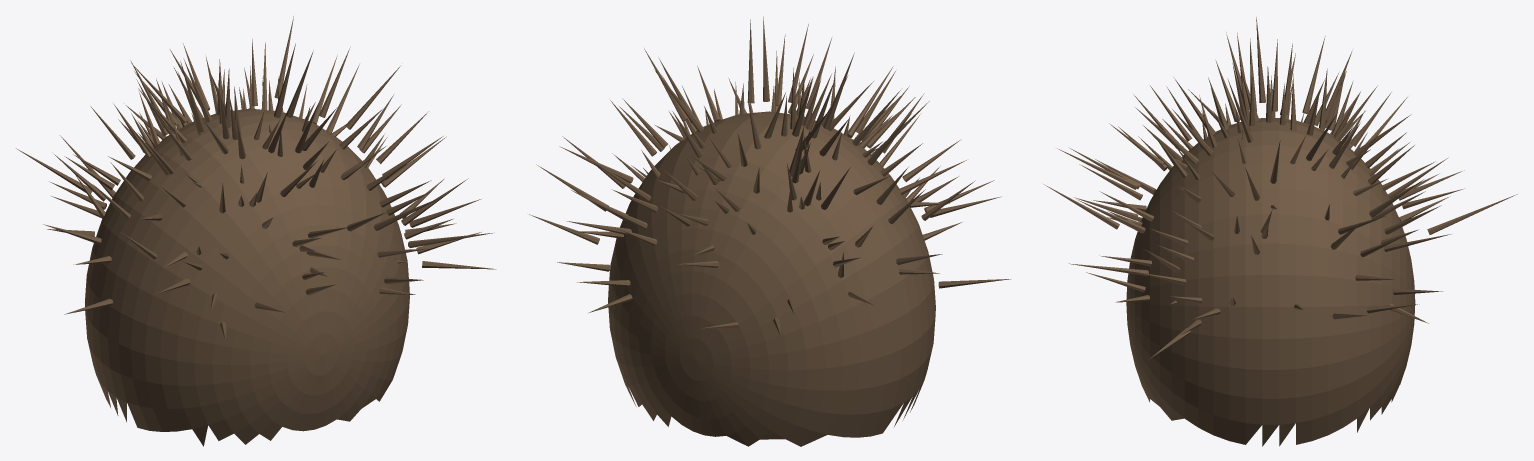
File: short_messy.glb
3 renders of one model, left to right at view 1: azimuth 30°, elevation 25°; view 2: azimuth 150°, elevation 25°; view 3: azimuth 270°, elevation 25°, orthographic. The views are drawn at different scales.
Visible parts, largest first — view 1: part_000; view 2: part_000; view 3: part_000.
Part boxes in pixels (left/top/right/bottom): part_000: left=85, top=108, right=409, bottom=446; part_000: left=608, top=111, right=935, bottom=446; part_000: left=1126, top=118, right=1415, bottom=446.
Bounding box in the file's own units: 0.3128 × 0.2495 × 0.3141.
